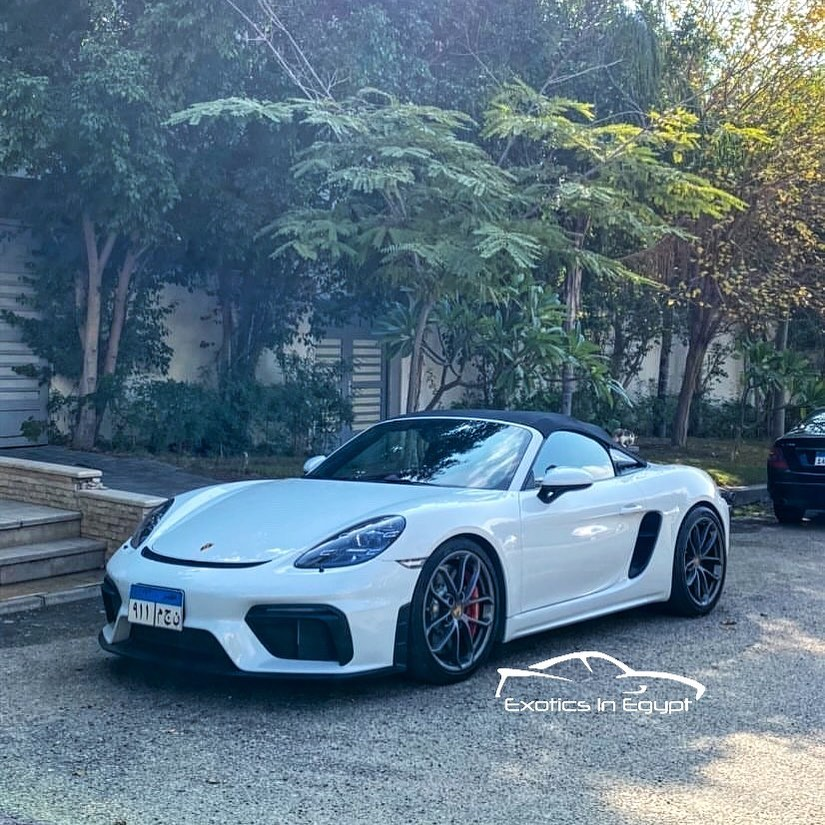carpl: (126, 598, 190, 625)
